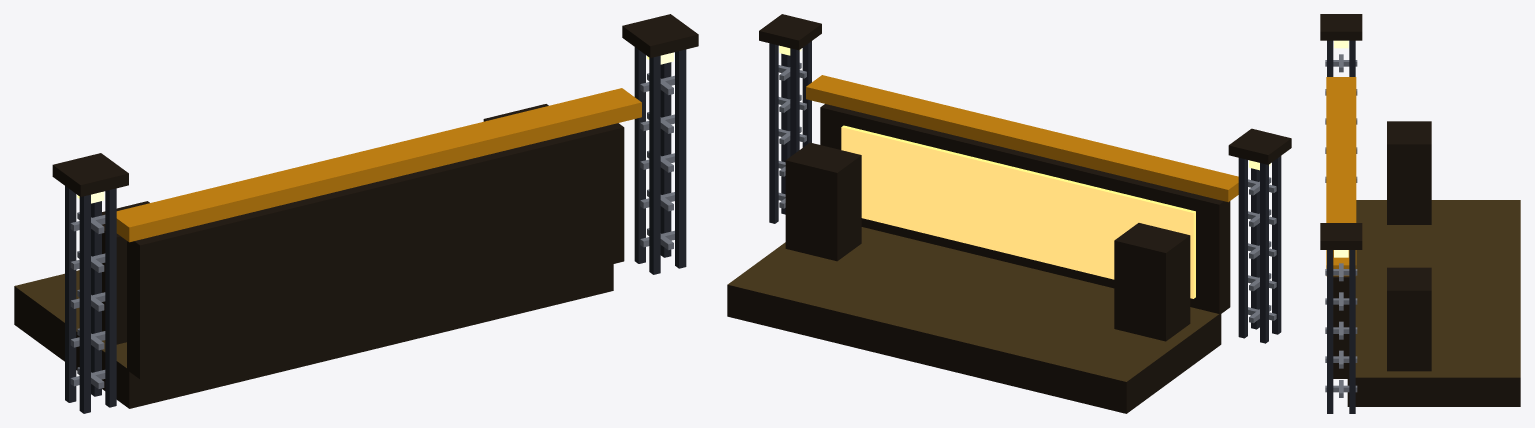
File: moksha-stage-high.glb
3 views of the same model, side by side, from view 1: azimuth 30°, elevation 25°; view 2: azimuth 150°, elevation 25°; view 3: azimuth 270°, elevation 25° (orthographic). The views are drawn at different scales.
Size of the model in its own units: 43.4 by 17 by 16.2.
